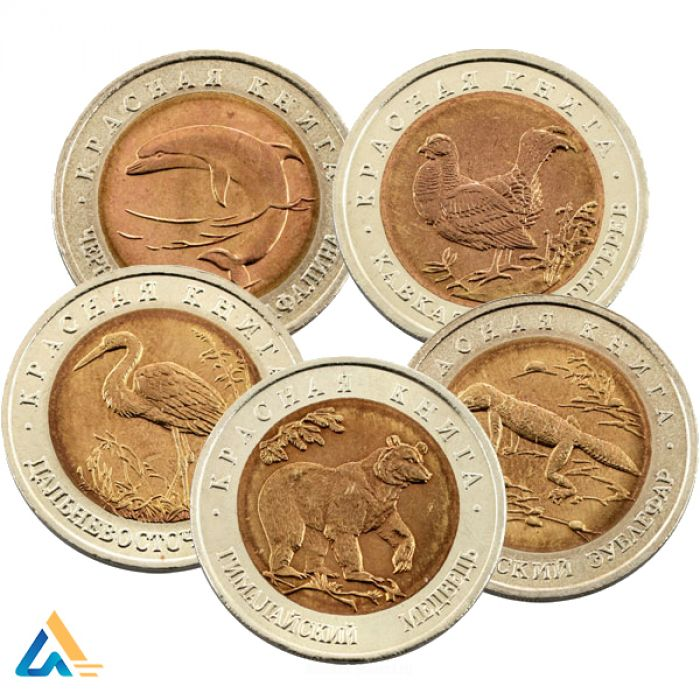coin: (1, 262, 310, 583), (196, 355, 505, 671), (341, 45, 653, 342), (412, 294, 700, 605), (55, 48, 353, 341)
